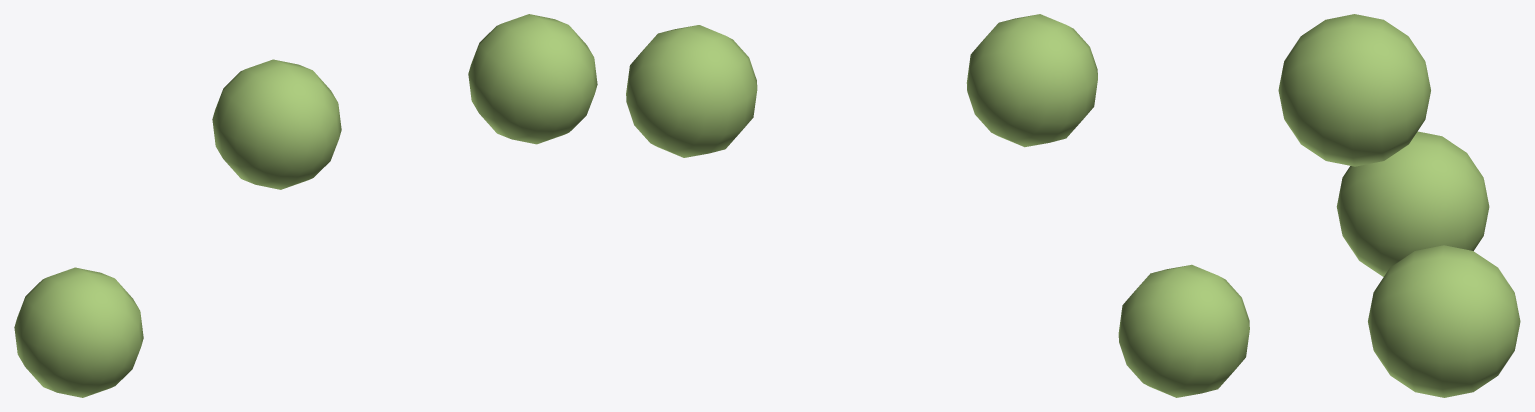
Rendered from superomedial-superficial-inguinal-nodes-r.glb.
3 renders of one model, left to right at view 1: azimuth 30°, elevation 25°; view 2: azimuth 150°, elevation 25°; view 3: azimuth 270°, elevation 25°, orthographic. The views are drawn at different scales.
Visible parts, largest first — view 1: Superomedial superficial inguinal nodes.r; view 2: Superomedial superficial inguinal nodes.r; view 3: Superomedial superficial inguinal nodes.r.
Boxes of the visible parts, x1,y1,x2,y2 form: Superomedial superficial inguinal nodes.r: (14,14,597,397); Superomedial superficial inguinal nodes.r: (626,14,1249,397); Superomedial superficial inguinal nodes.r: (1278,14,1520,397).
Bounding box in the file's own units: 0.0133 × 0.00661 × 0.00412.
